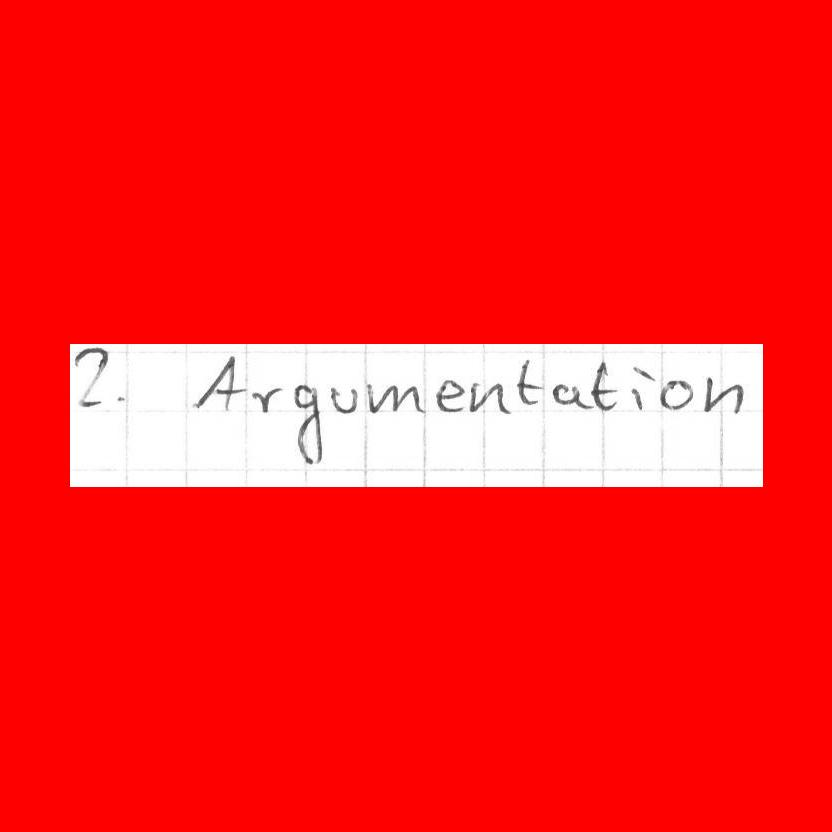Char: (188, 352, 247, 413), (286, 379, 325, 471), (71, 343, 112, 411), (365, 380, 427, 415), (588, 360, 621, 413), (464, 377, 510, 415), (514, 356, 546, 409), (703, 375, 745, 414), (628, 361, 658, 413), (658, 376, 697, 413), (433, 377, 466, 417), (549, 379, 589, 411), (326, 383, 361, 416), (247, 384, 283, 415), (106, 385, 141, 413)
